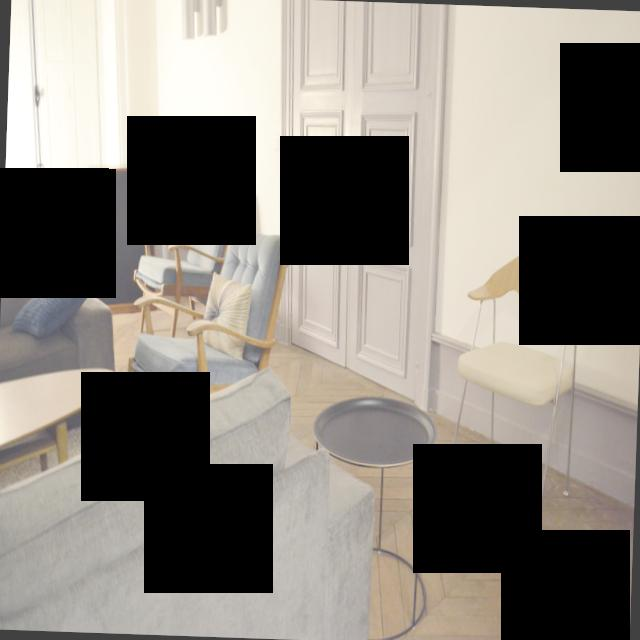vintage chair: (432, 244, 604, 545), (120, 222, 297, 433)
vintage desk: (298, 380, 438, 624), (0, 347, 124, 492)
